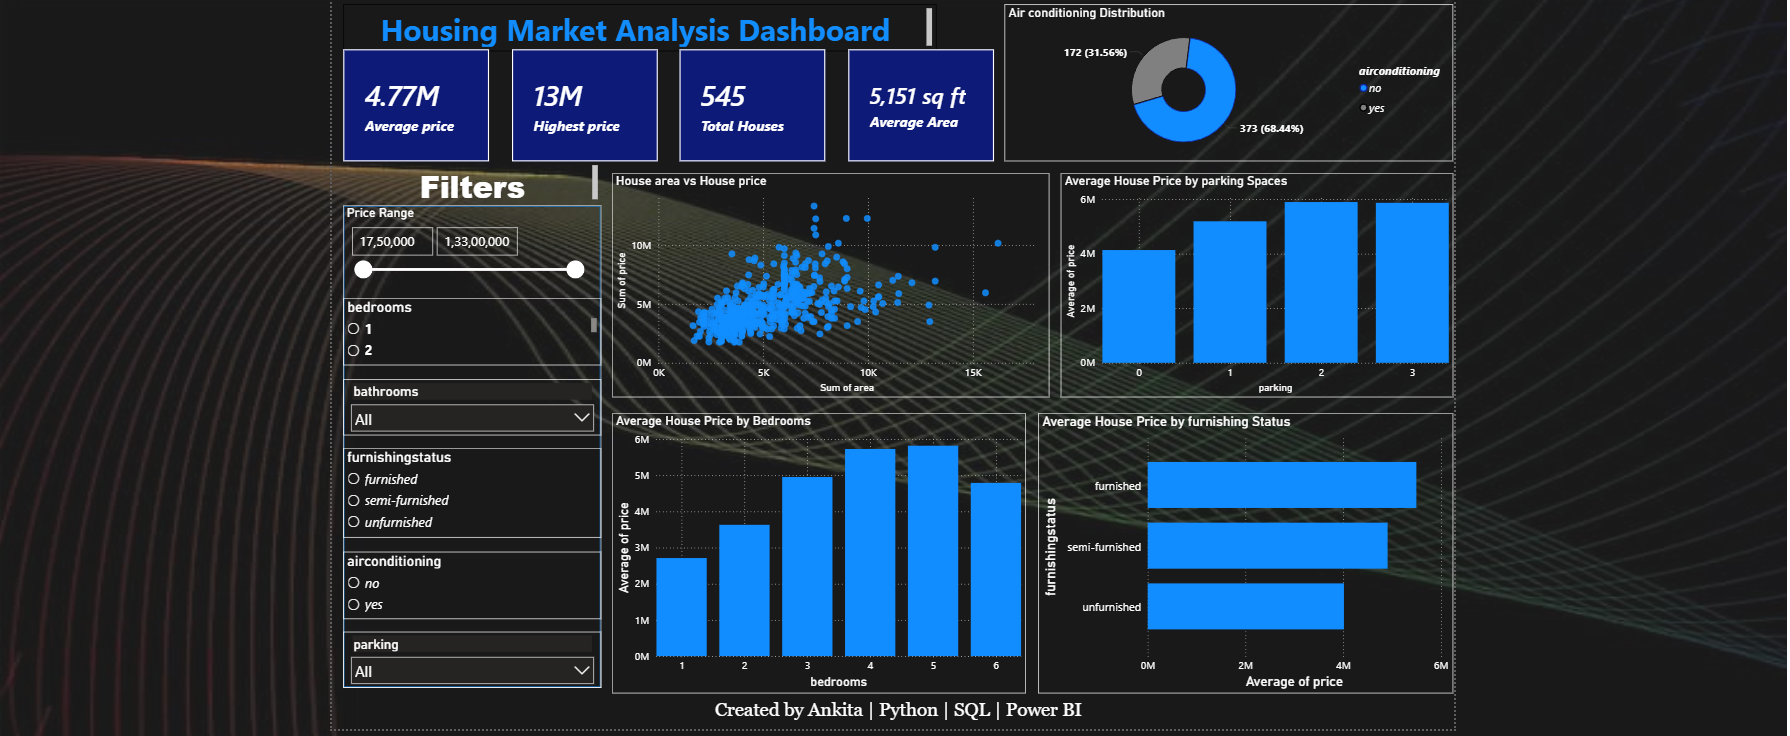

Layout of this report page (visuals, bound fields, positions):
{"tool":"powerbi","page":{"name":"Page 1","canvas":[1600,1050],"ordinal":0},"visuals":[{"type":"textbox","box":[16,16,846,67],"z":0},{"type":"shape","box":[16,304,368,688],"z":1000},{"type":"cardVisual","title":"Average House price","fields":{"Data":["Avg(cleaned_housing.price)"]},"box":[16,80,208,160],"z":2000},{"type":"cardVisual","title":"Highest price","fields":{"Data":["Max(cleaned_housing.price)"]},"box":[256,80,208,160],"z":3000},{"type":"cardVisual","fields":{"Data":["CountNonNull(cleaned_housing.price)"]},"box":[496,80,208,160],"z":4000},{"type":"cardVisual","fields":{"Data":["cleaned_housing.Average Area Text"]},"box":[736,80,208,160],"z":5000},{"type":"clusteredColumnChart","title":"Average House Price by Bedrooms","fields":{"Category":["cleaned_housing.bedrooms"],"Y":["Avg(cleaned_housing.price)"]},"box":[400,600,590,400],"z":6000},{"type":"clusteredBarChart","title":"Average House Price by furnishing Status ","fields":{"Category":["cleaned_housing.furnishingstatus"],"Y":["Avg(cleaned_housing.price)"]},"box":[1008,600,592,400],"z":7000},{"type":"scatterChart","title":"House area vs House price","fields":{"X":["Sum(cleaned_housing.area)"],"Y":["Sum(cleaned_housing.price)"],"Category":["cleaned_housing.Index"]},"box":[400,256,624,320],"z":8000},{"type":"donutChart","title":"Air conditioning Distribution","fields":{"Category":["cleaned_housing.airconditioning"],"Y":["CountNonNull(cleaned_housing.price)"]},"box":[960,16,640,224],"z":9000},{"type":"clusteredColumnChart","title":"Average House Price by parking Spaces","fields":{"Category":["cleaned_housing.parking"],"Y":["Avg(cleaned_housing.price)"]},"box":[1040,256,560,320],"z":10000},{"type":"textbox","box":[16,240,368,64],"z":11000},{"type":"listSlicer","fields":{"Values":["cleaned_housing.bedrooms"]},"box":[16,435.2,368,96],"z":12000},{"type":"slicer","fields":{"Values":["cleaned_housing.bathrooms"]},"box":[16,550.4,368,80],"z":13000},{"type":"listSlicer","fields":{"Values":["cleaned_housing.furnishingstatus"]},"box":[16,649.6,368,128],"z":14000},{"type":"listSlicer","fields":{"Values":["cleaned_housing.airconditioning"]},"box":[16,796.8,368,96],"z":15000},{"type":"slicer","fields":{"Values":["cleaned_housing.parking"]},"box":[16,912,368,80],"z":16000},{"type":"slicer","title":"Price Range","fields":{"Values":["cleaned_housing.price"]},"box":[16,304,352,112],"z":17000},{"type":"textbox","box":[16,1002,1584,48],"z":18000}]}

Visuals, with their boxes on the page's 1600x1050 design canvas (x1, y1, x2, y2). These are canvas units, not pixel positions in the 1790x736 screenshot, which may show the page scaled, cropped or inside an application window:
textbox: bbox=[16, 16, 862, 83]
shape: bbox=[16, 304, 384, 992]
"Average House price" cardVisual: bbox=[16, 80, 224, 240]
"Highest price" cardVisual: bbox=[256, 80, 464, 240]
cardVisual - CountNonNull(cleaned_housing.price): bbox=[496, 80, 704, 240]
cardVisual - cleaned_housing.Average Area Text: bbox=[736, 80, 944, 240]
"Average House Price by Bedrooms" clusteredColumnChart: bbox=[400, 600, 990, 1000]
"Average House Price by furnishing Status " clusteredBarChart: bbox=[1008, 600, 1600, 1000]
"House area vs House price" scatterChart: bbox=[400, 256, 1024, 576]
"Air conditioning Distribution" donutChart: bbox=[960, 16, 1600, 240]
"Average House Price by parking Spaces" clusteredColumnChart: bbox=[1040, 256, 1600, 576]
textbox: bbox=[16, 240, 384, 304]
listSlicer - cleaned_housing.bedrooms: bbox=[16, 435, 384, 531]
slicer - cleaned_housing.bathrooms: bbox=[16, 550, 384, 630]
listSlicer - cleaned_housing.furnishingstatus: bbox=[16, 650, 384, 778]
listSlicer - cleaned_housing.airconditioning: bbox=[16, 797, 384, 893]
slicer - cleaned_housing.parking: bbox=[16, 912, 384, 992]
"Price Range" slicer: bbox=[16, 304, 368, 416]
textbox: bbox=[16, 1002, 1600, 1050]
